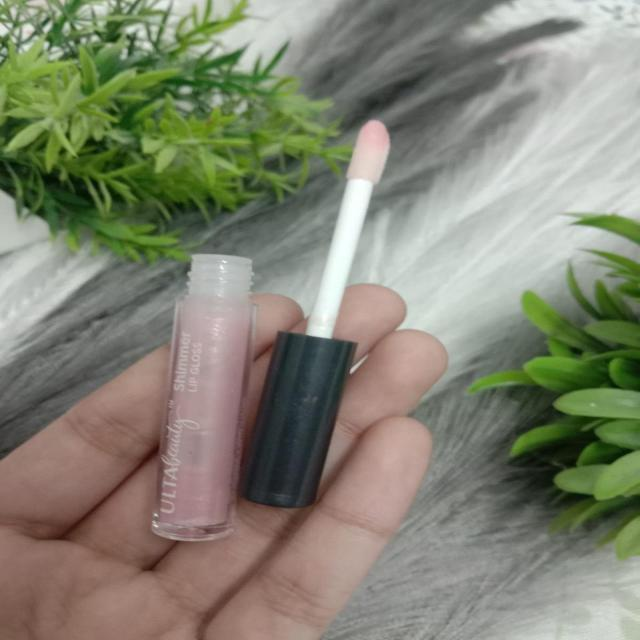lip gloss: (229, 99, 400, 529), (129, 222, 281, 552)
